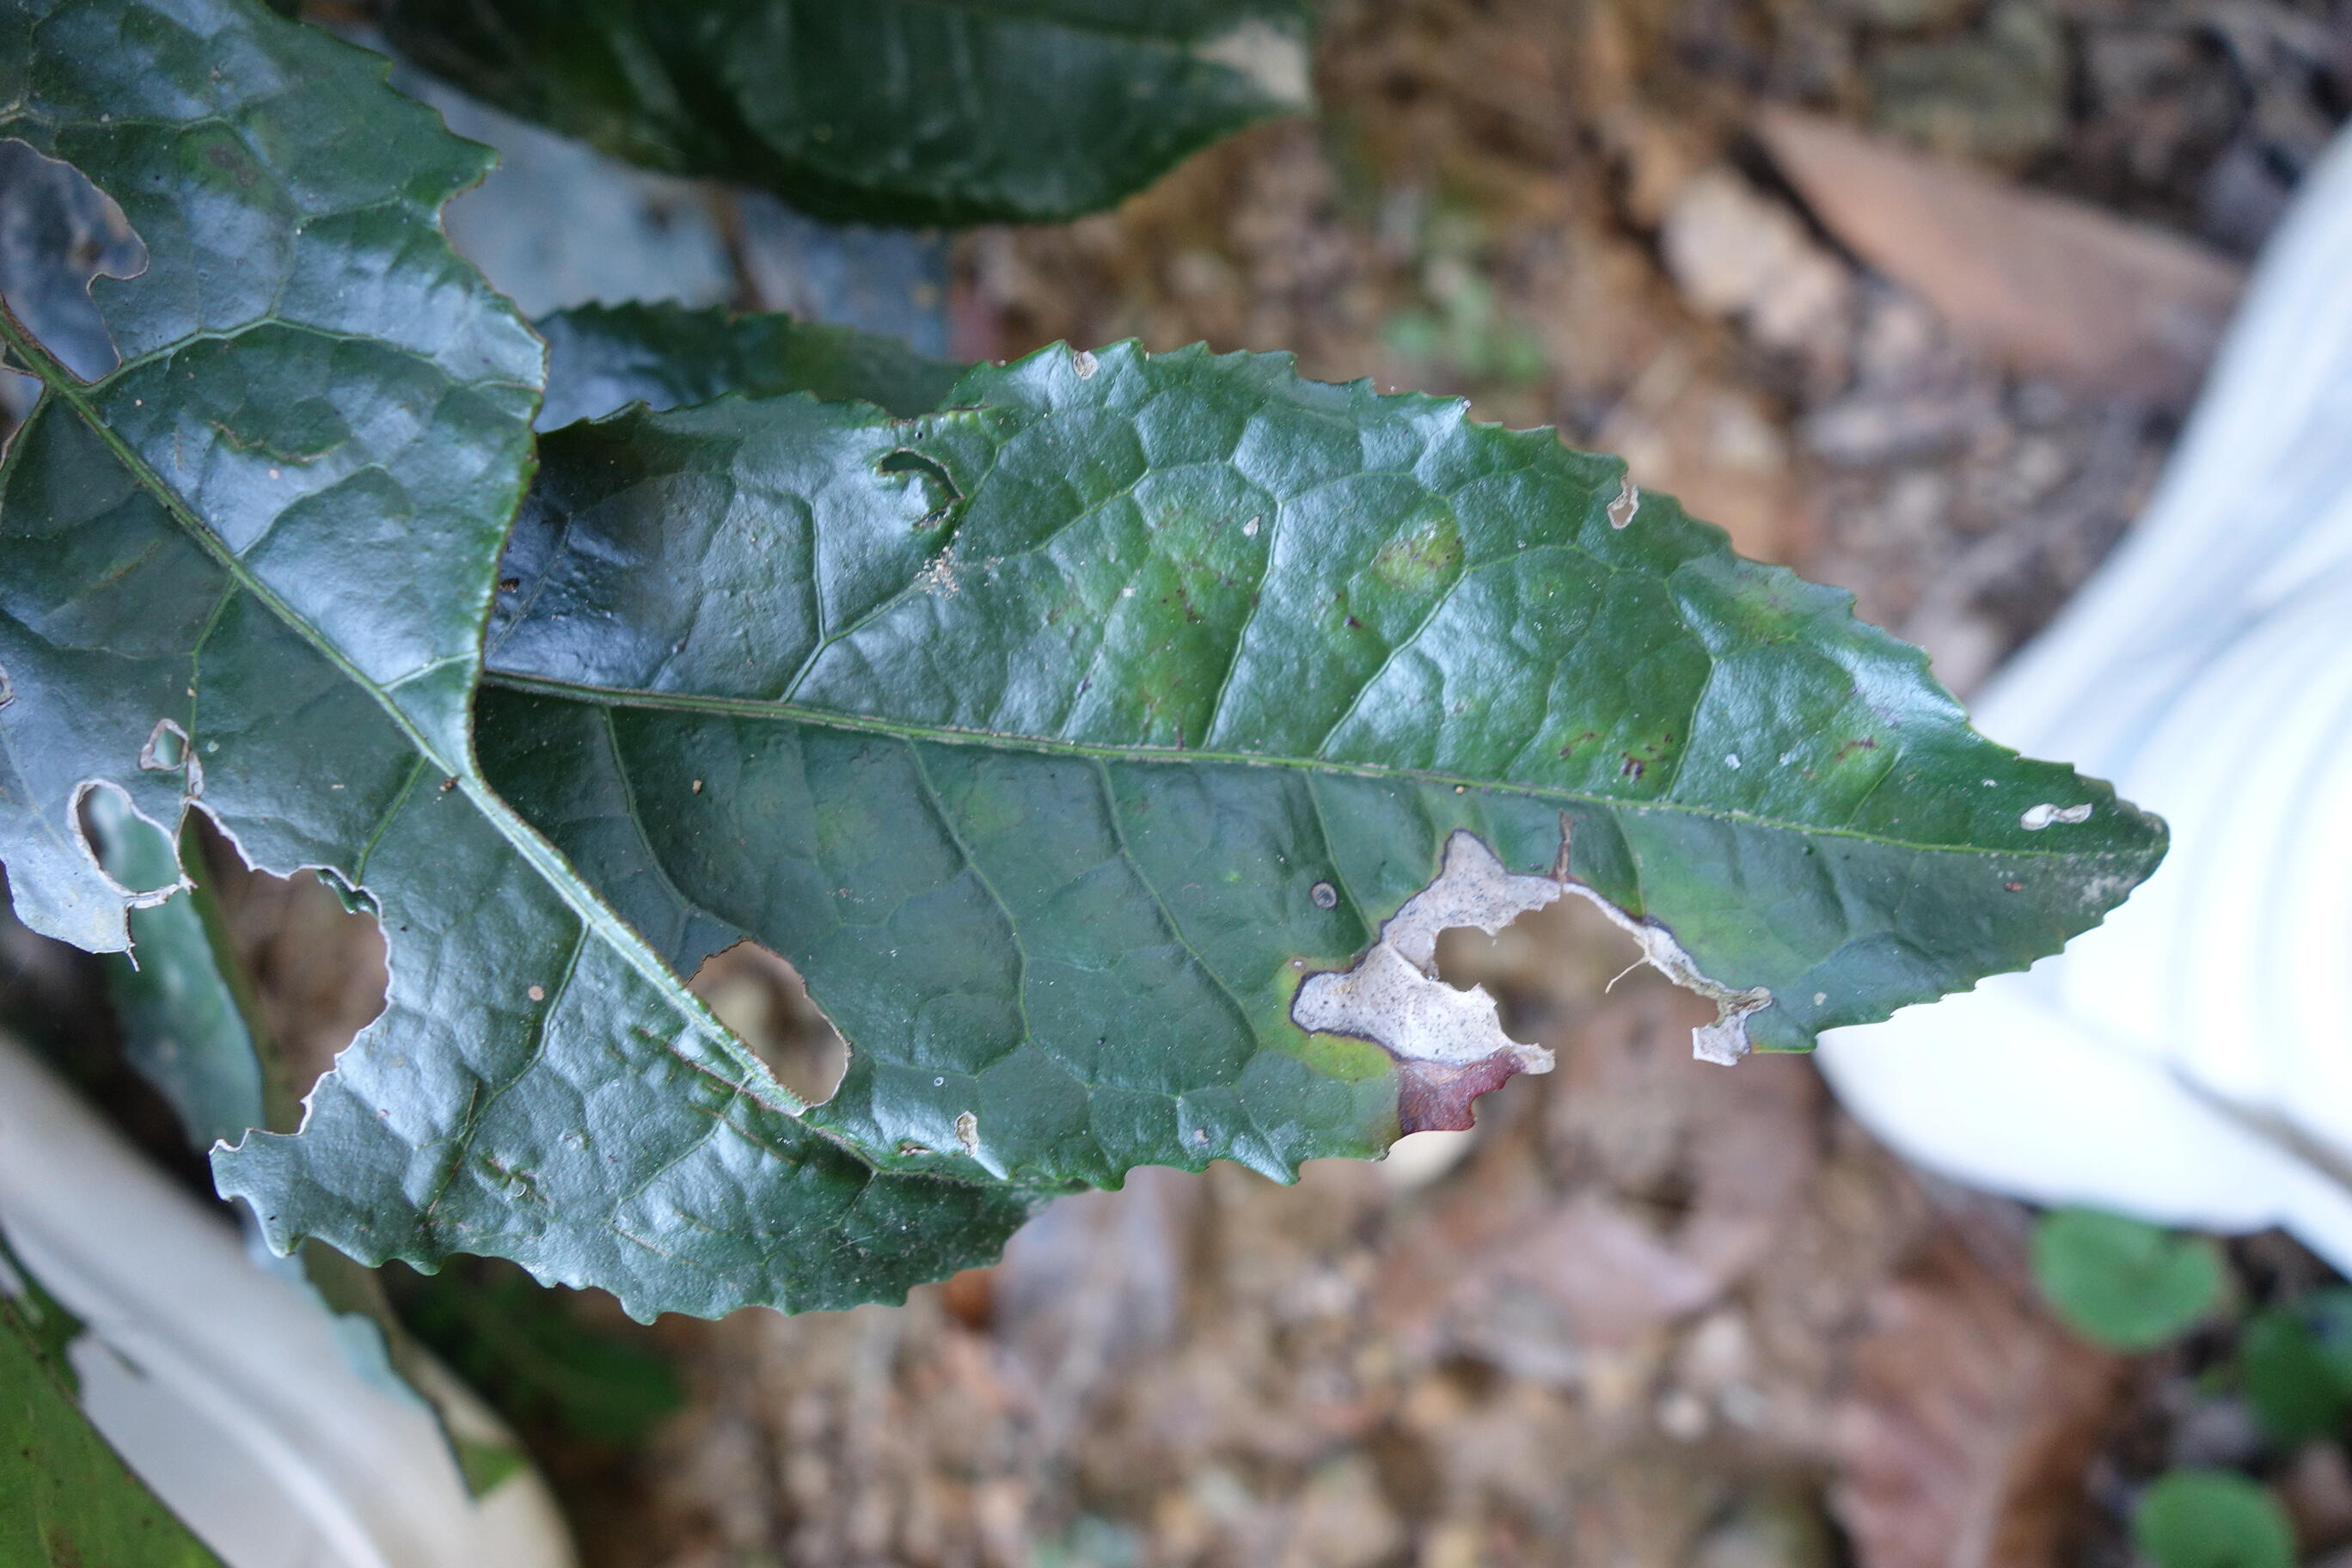chihuo_high: (506, 334, 2168, 1172), (3, 3, 1034, 1328)
